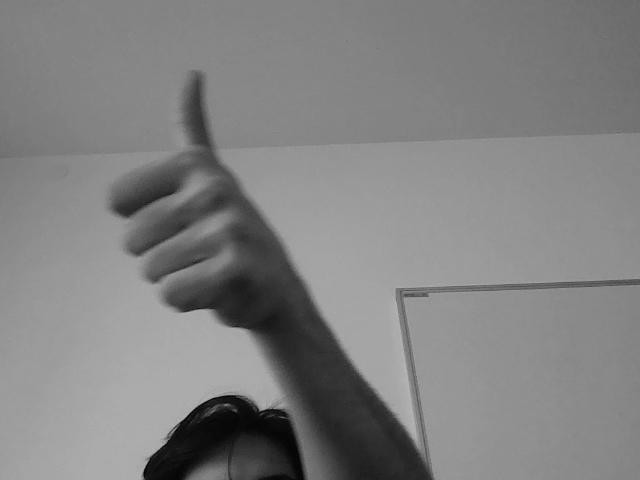good: (96, 62, 284, 339)
